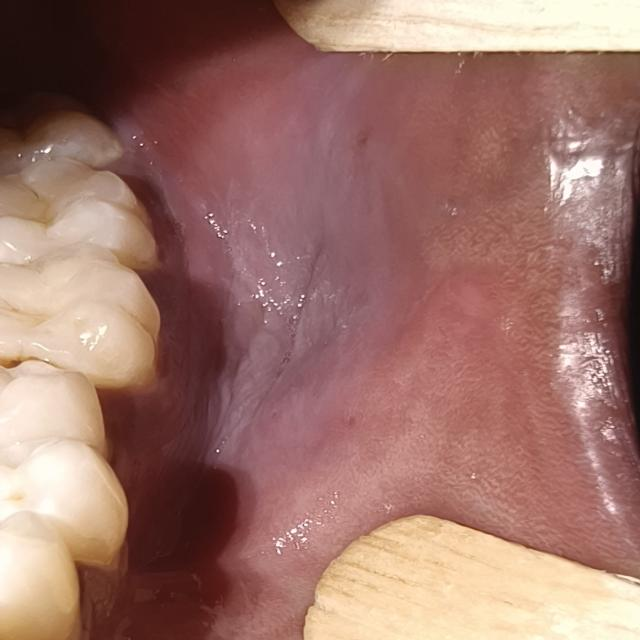leukoplakia-detection: (105, 47, 413, 481)
processing_area: (124, 41, 635, 640)
